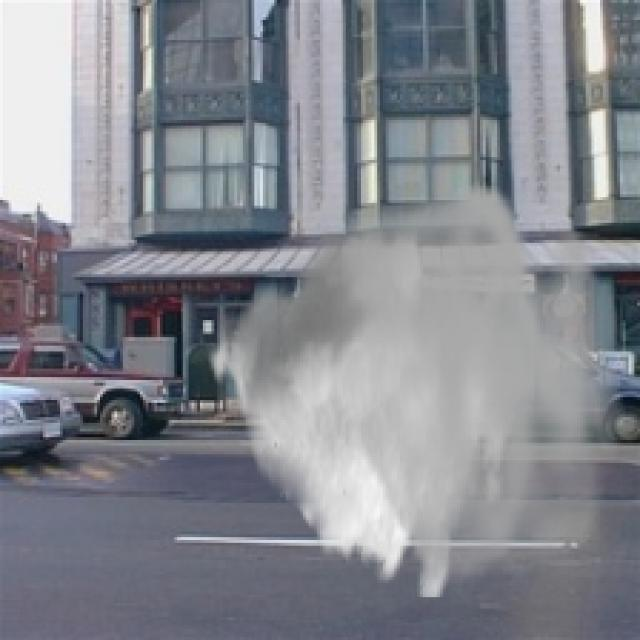smoke: (205, 177, 626, 597)
